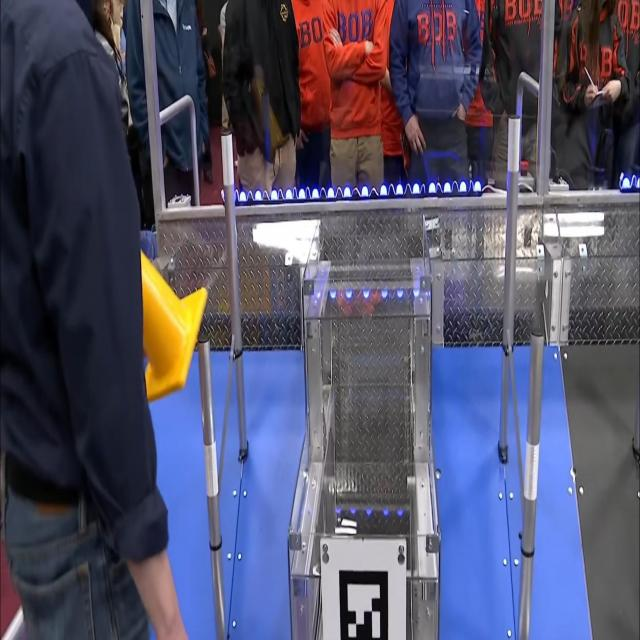frc_cone: (135, 243, 204, 397)
